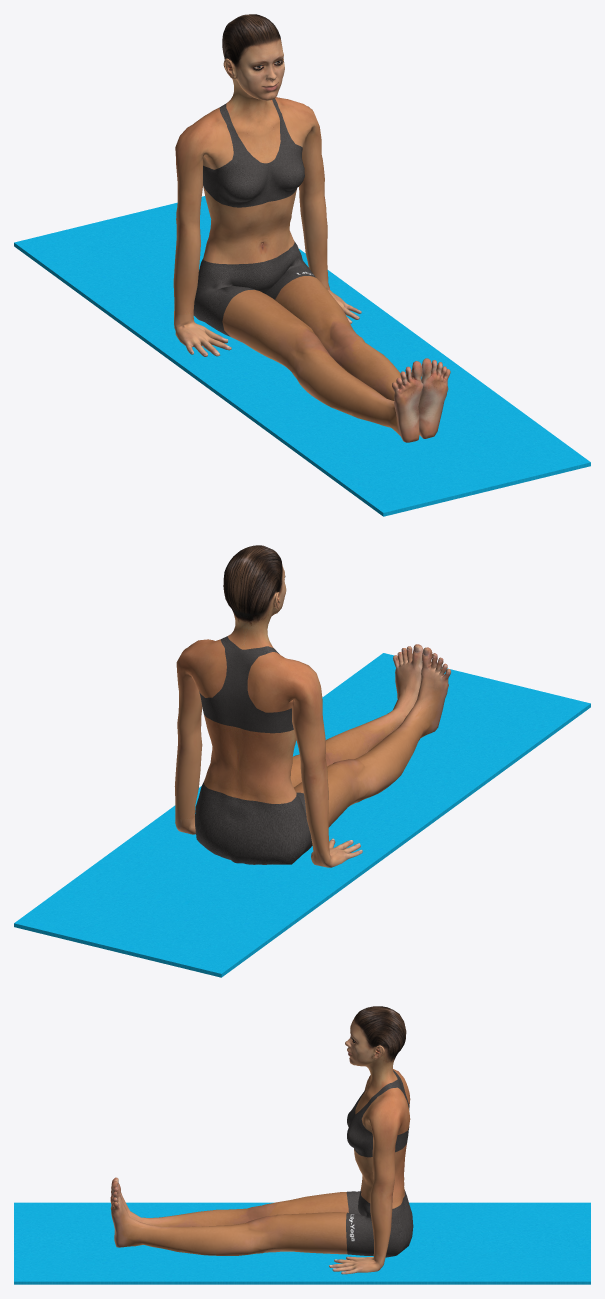
Rendered from dandasana.glb.
3 views of the same model, one above another, from view 1: azimuth 30°, elevation 25°; view 2: azimuth 150°, elevation 25°; view 3: azimuth 270°, elevation 25° (orthographic). The views are drawn at different scales.
Visible parts, largest first — view 1: Lily_Texture2017-07-24Yellower_jpg-material, Mat-one-piece_jpg-material; view 2: Mat-one-piece_jpg-material, Lily_Texture2017-07-24Yellower_jpg-material; view 3: Mat-one-piece_jpg-material, Lily_Texture2017-07-24Yellower_jpg-material.
Part boxes in pixels (x1,y1,x2,y2): Lily_Texture2017-07-24Yellower_jpg-material: [173, 14, 450, 442]; Mat-one-piece_jpg-material: [14, 196, 590, 516]; Mat-one-piece_jpg-material: [14, 653, 590, 977]; Lily_Texture2017-07-24Yellower_jpg-material: [174, 545, 450, 867]; Mat-one-piece_jpg-material: [14, 1202, 590, 1284]; Lily_Texture2017-07-24Yellower_jpg-material: [110, 1006, 413, 1274].
Size of the model in its own units: 2 by 2.79 by 6.17.
Materials: 3 (2 with a texture image).
